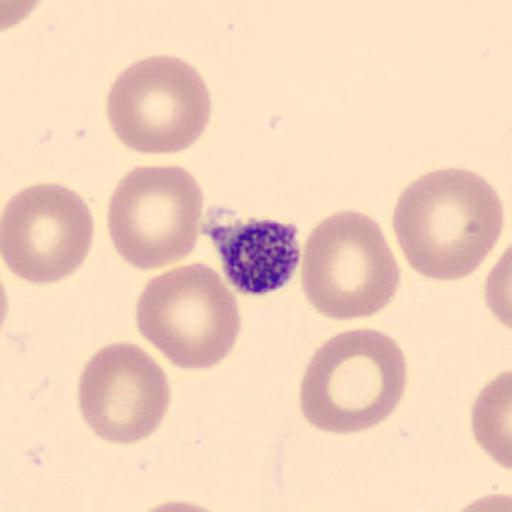Platelet: (218, 214, 303, 297)
RBC: (390, 167, 505, 282), (298, 325, 409, 437), (134, 258, 243, 372), (299, 207, 401, 322), (104, 52, 213, 158), (104, 162, 206, 272), (76, 340, 173, 447), (2, 180, 96, 286), (469, 368, 512, 474), (485, 206, 512, 333), (483, 241, 512, 333), (127, 498, 233, 512), (1, 0, 45, 32), (449, 491, 511, 512)
